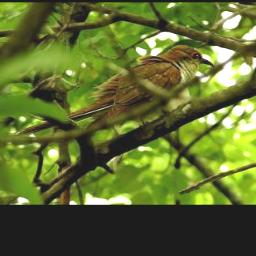Cuckoo: (13, 43, 215, 138)
